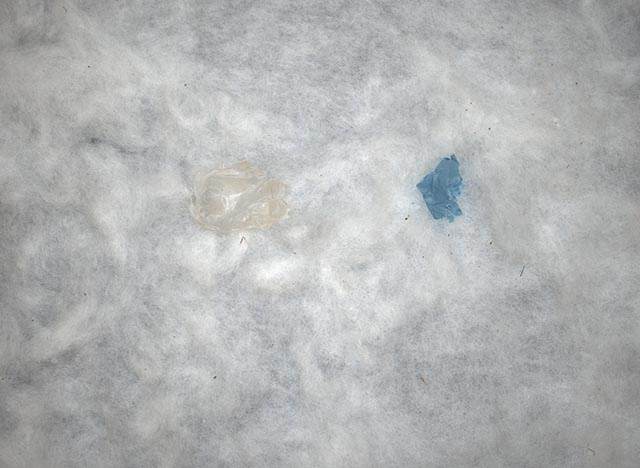plastic film: (185, 159, 290, 240), (416, 151, 468, 224)
